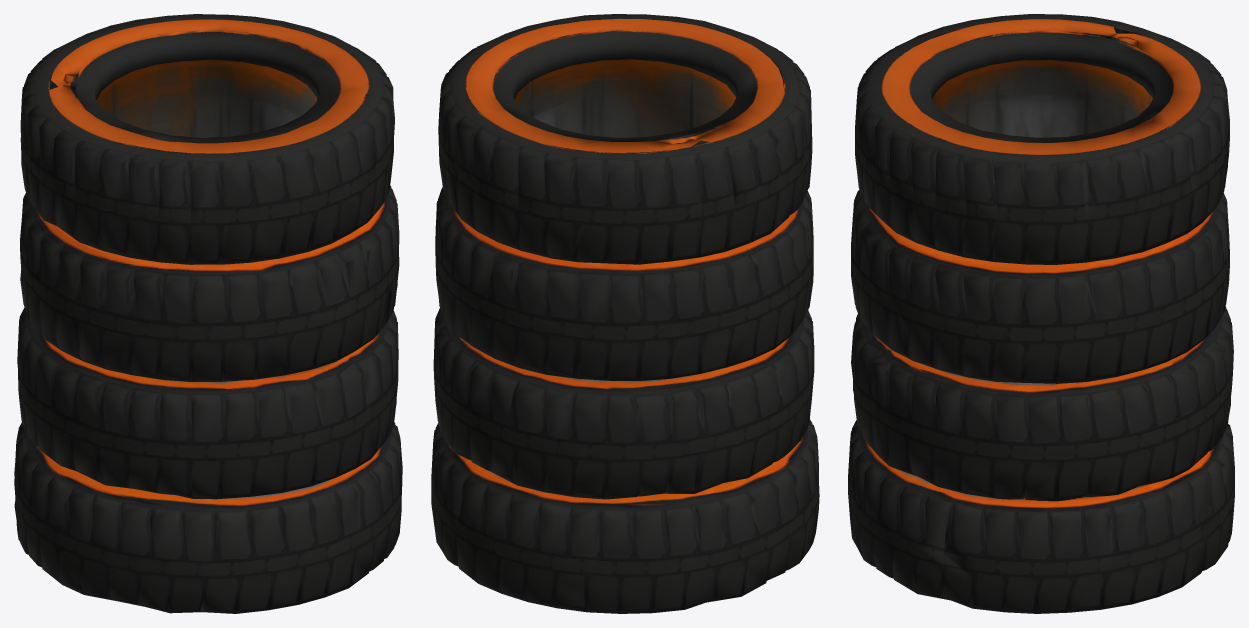
File: tire-stack.glb
3 renders of one model, left to right at view 1: azimuth 30°, elevation 25°; view 2: azimuth 150°, elevation 25°; view 3: azimuth 270°, elevation 25°, orthographic.
Parts seen in each view (by area): view 1: tripo_node_f5c5d0eb-e3be-4eea-b120-ca4569a03dab; view 2: tripo_node_f5c5d0eb-e3be-4eea-b120-ca4569a03dab; view 3: tripo_node_f5c5d0eb-e3be-4eea-b120-ca4569a03dab.
Part boxes in pixels (x1,y1,x2,y2): tripo_node_f5c5d0eb-e3be-4eea-b120-ca4569a03dab: [14, 14, 402, 613]; tripo_node_f5c5d0eb-e3be-4eea-b120-ca4569a03dab: [431, 14, 819, 613]; tripo_node_f5c5d0eb-e3be-4eea-b120-ca4569a03dab: [848, 14, 1234, 613].
Size of the model in its own units: 0.9276 by 1.2 by 0.9276.
1 material, 1 textured.
